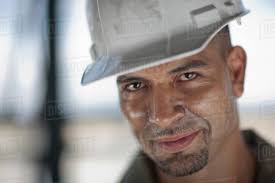Person_wearing_helmet: (76, 0, 257, 120)
